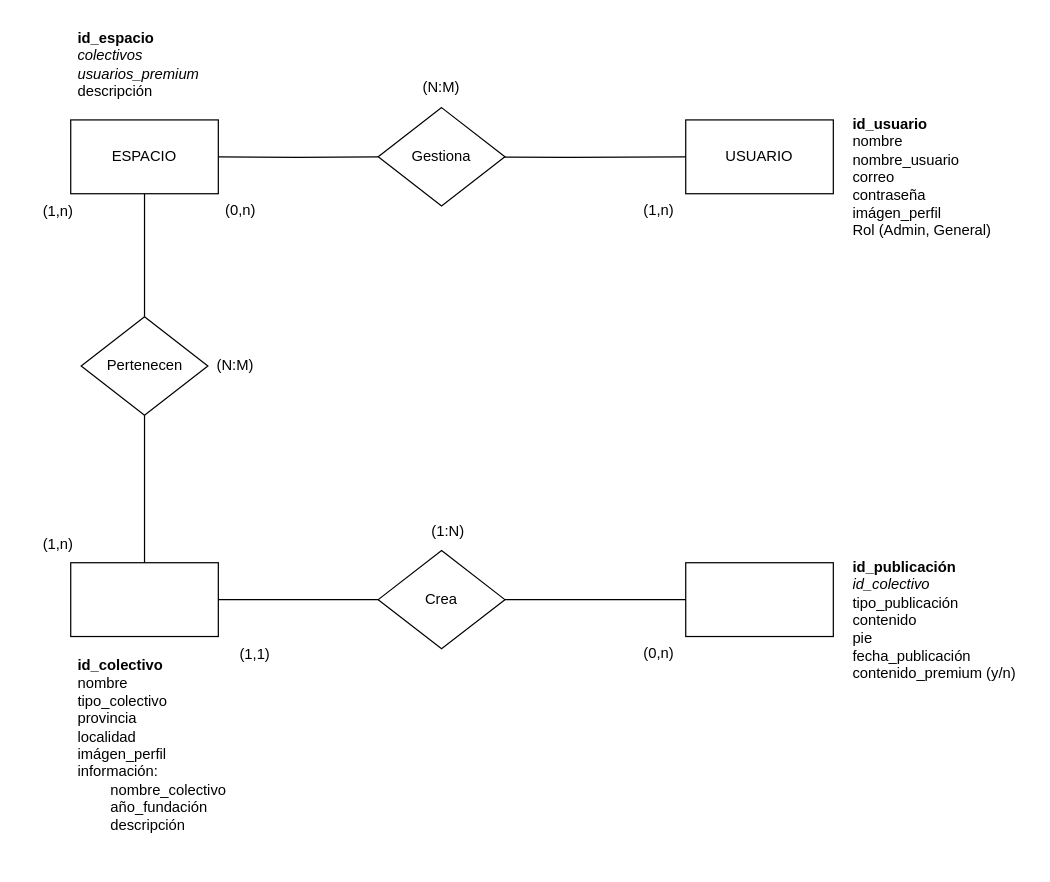
This 1050x882 diagram has some shape labels left out. Each missing label, with the centre of its shape:
"COLECTIVO" belongs at point (143, 599).
"PUBLICACIÓN" belongs at point (758, 599).
